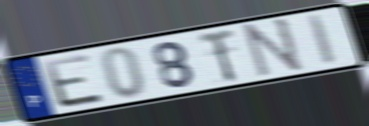0: (99, 45, 151, 101)
8: (152, 40, 197, 90)
E: (39, 51, 108, 110)
I: (306, 12, 341, 68)
N: (242, 16, 306, 80)
T: (195, 26, 239, 85)
